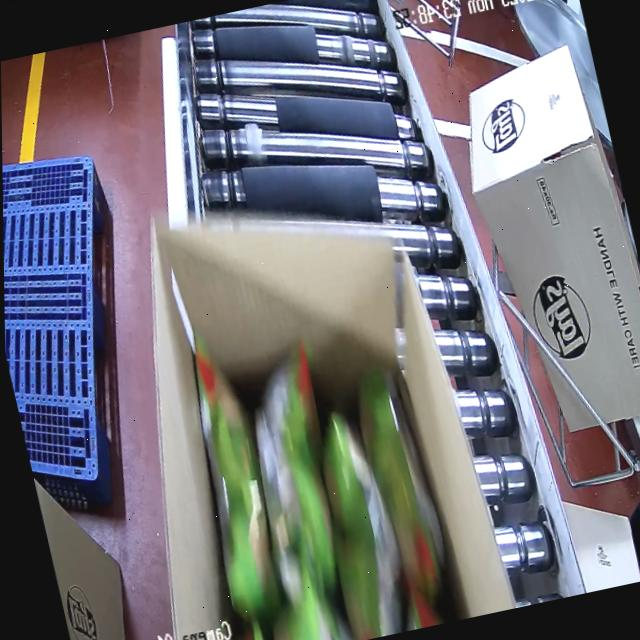YOGURT_HERB: (186, 327, 458, 640)
